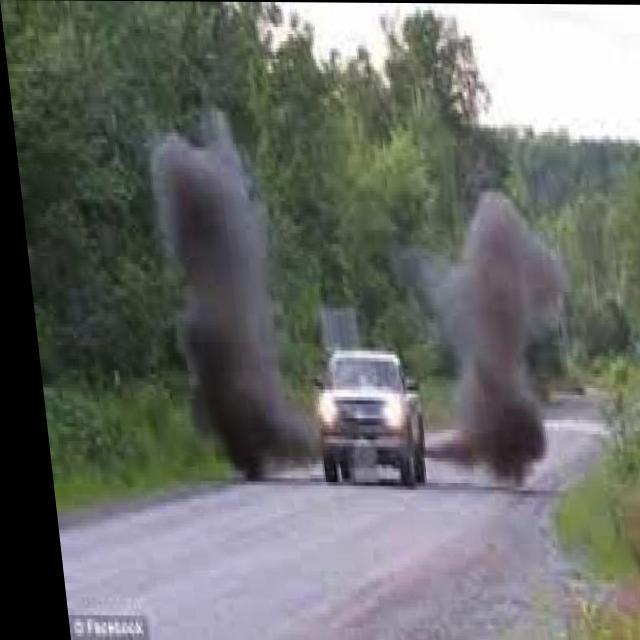Smoke: (130, 117, 336, 493), (390, 196, 587, 492)
